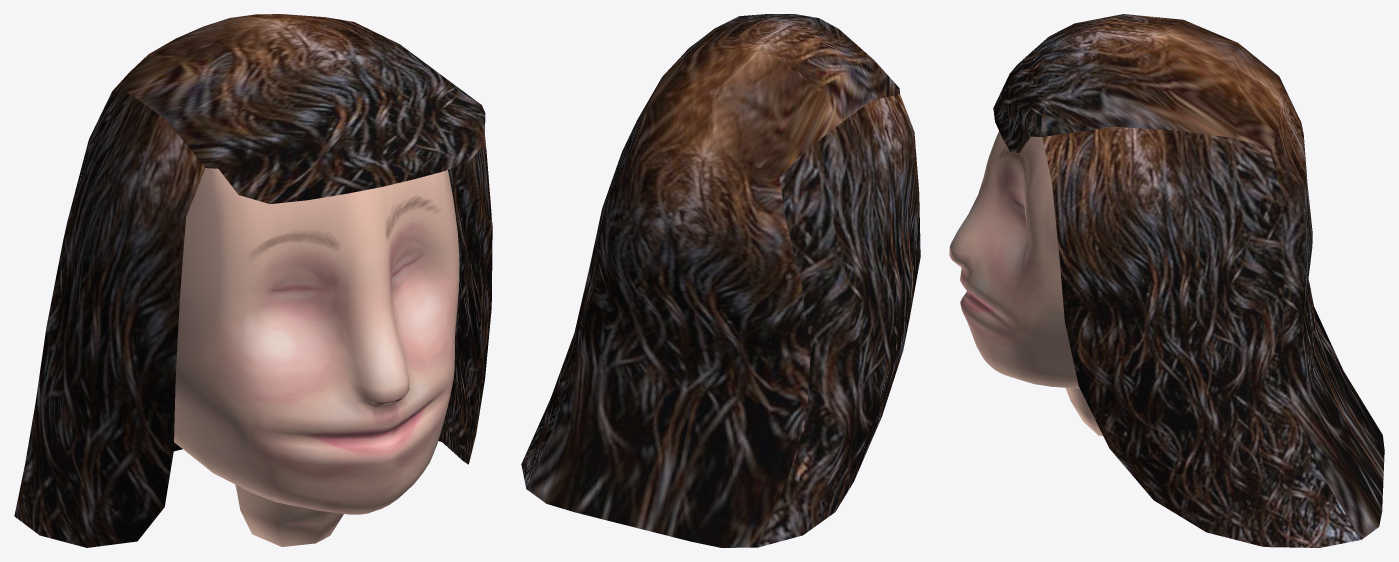
File: SM_Arlend_00_Head.fbx
The picture shows the model from 3 angles, left to right: view 1: azimuth 30°, elevation 25°; view 2: azimuth 150°, elevation 25°; view 3: azimuth 270°, elevation 25°; orthographic projection. The views are drawn at different scales.
Visible parts, largest first — view 1: SM_Arlend_00_Head; view 2: SM_Arlend_00_Head; view 3: SM_Arlend_00_Head.
Part boxes in pixels (x1,y1,x2,y2): SM_Arlend_00_Head: (14,14,492,547); SM_Arlend_00_Head: (521,14,920,547); SM_Arlend_00_Head: (949,14,1384,547).
Bounding box in the file's own units: 45.24 × 55.77 × 50.41.
